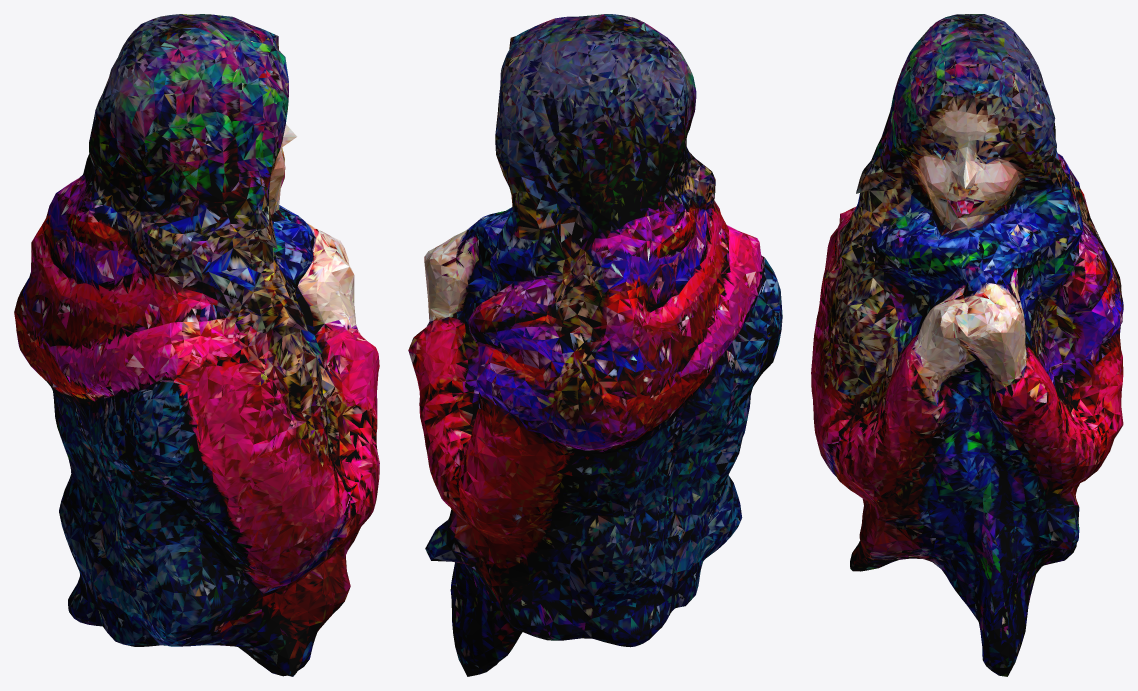
Rendered from girl_scarf-normal.glb.
The picture shows the model from 3 angles, left to right: view 1: azimuth 30°, elevation 25°; view 2: azimuth 150°, elevation 25°; view 3: azimuth 270°, elevation 25°; orthographic projection. The views are drawn at different scales.
Parts seen in each view (by area): view 1: extracted_mesh; view 2: extracted_mesh; view 3: extracted_mesh.
Part boxes in pixels (x1=…): extracted_mesh: x1=14, y1=14, x2=379, y2=676; extracted_mesh: x1=408, y1=14, x2=782, y2=676; extracted_mesh: x1=811, y1=14, x2=1123, y2=676.
Bounding box in the file's own units: 0.5729 × 1.33 × 0.625.
1 material, 1 textured.
